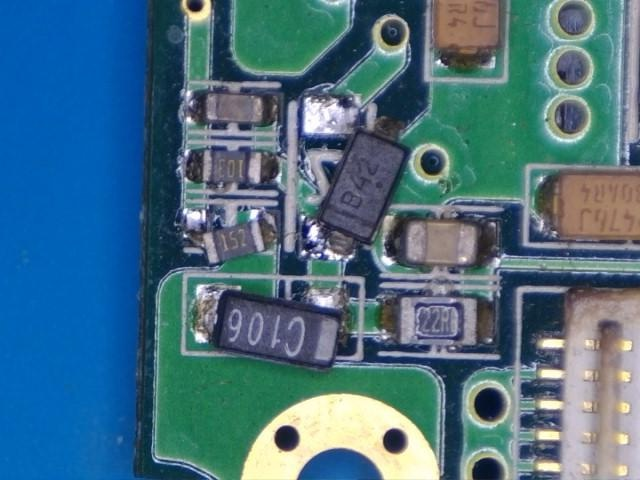pcb_defect: (298, 95, 410, 261), (194, 285, 350, 369), (183, 207, 276, 265)
